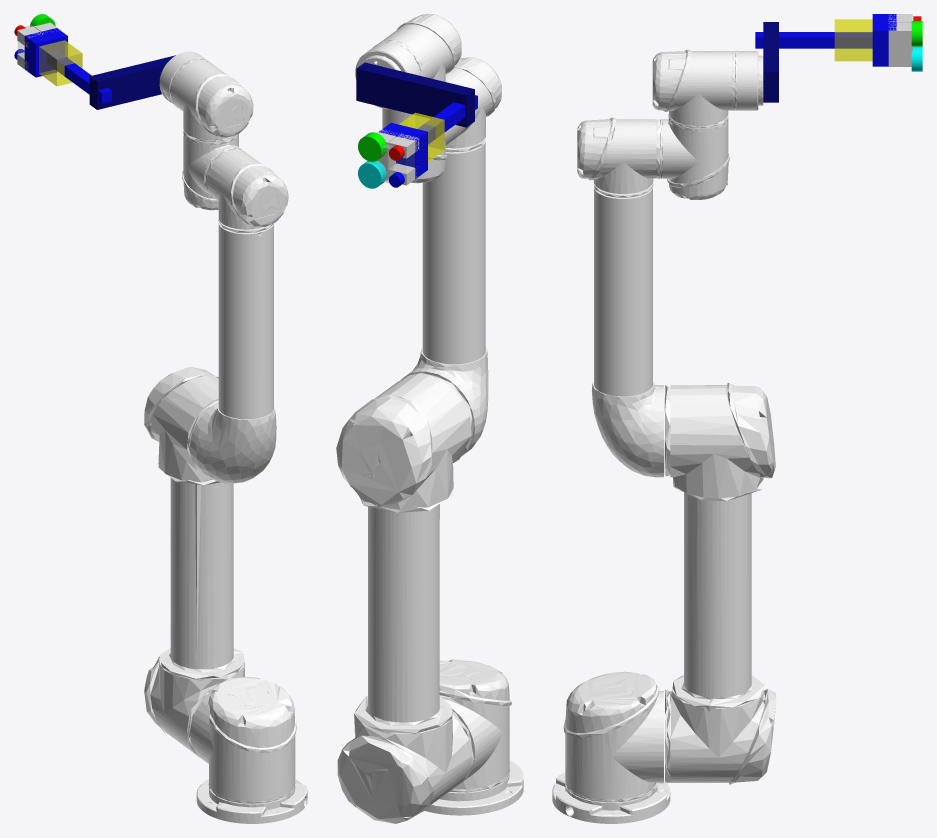
The model's file is universalrobots-ur5-with-3rdgen-hand.mujin.dae.
The picture shows the model from 3 angles, left to right: view 1: azimuth 30°, elevation 25°; view 2: azimuth 150°, elevation 25°; view 3: azimuth 270°, elevation 25°; orthographic projection. The views are drawn at different scales.
Parts seen in each view (by area): view 1: L2, L3, L1, schmalzsuctionhand (×4), L5, L0, L4, L6; view 2: L2, L3, schmalzsuctionhand (×6), L1, L5, L0, L4, L6, suctioncup2, suctioncup3, suction_ignore_; view 3: L2, L3, L1, schmalzsuctionhand (×5), L5, L4, L0, L6.
Boxes of the visible parts, x1,y1,x2,y2 form: L2: (144, 366, 244, 757); L3: (190, 148, 288, 483); L1: (190, 677, 296, 803); schmalzsuctionhand (×4): (24, 28, 175, 109); L5: (170, 59, 253, 141); L0: (196, 779, 307, 823); L4: (182, 132, 244, 210); L6: (159, 51, 210, 107); L2: (336, 372, 474, 823); L3: (401, 57, 501, 457); schmalzsuctionhand (×6): (356, 62, 477, 180); L1: (439, 659, 511, 792); L5: (379, 14, 461, 81); L0: (425, 760, 523, 815); L4: (382, 108, 461, 183); L6: (355, 41, 421, 109); suctioncup2: (358, 132, 386, 161); suctioncup3: (358, 160, 386, 188); suction_ignore_: (371, 144, 393, 183); L2: (665, 383, 776, 784); L3: (577, 117, 664, 477); L1: (563, 671, 663, 802); schmalzsuctionhand (×5): (755, 14, 912, 102); L5: (652, 49, 734, 127); L4: (660, 116, 729, 199); L0: (552, 772, 670, 823); L6: (735, 50, 763, 110).
Size of the model in its own units: 0.22 by 0.4669 by 1.04.
